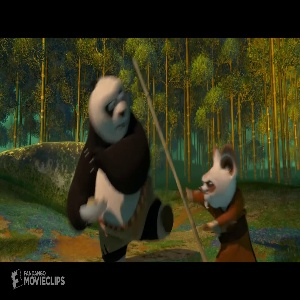po: (66, 73, 177, 262)
shifu: (183, 144, 259, 264)
